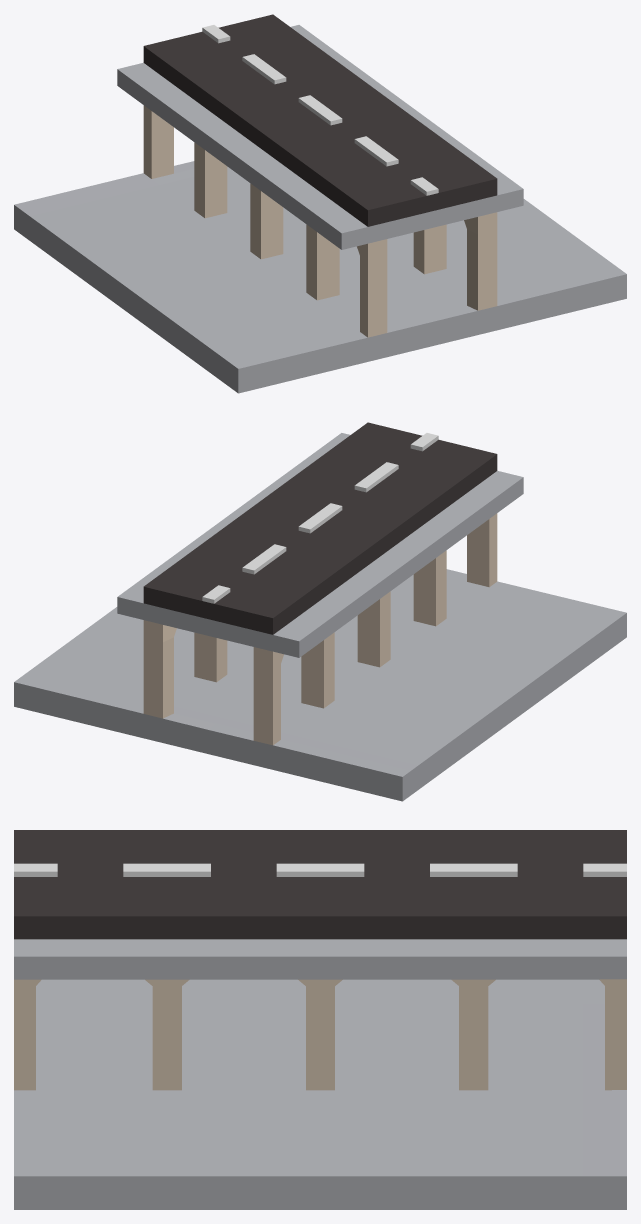
Rendered from Street_Bridge.glb.
3 renders of one model, top to bottom at view 1: azimuth 30°, elevation 25°; view 2: azimuth 150°, elevation 25°; view 3: azimuth 270°, elevation 25°, orthographic. The views are drawn at different scales.
Visible parts, largest first — view 1: Street_Bridge; view 2: Street_Bridge; view 3: Street_Bridge.
Boxes of the visible parts, x1=… form: Street_Bridge: x1=14, y1=14, x2=626, y2=393; Street_Bridge: x1=14, y1=422, x2=626, y2=801; Street_Bridge: x1=14, y1=830, x2=626, y2=1209.
Size of the model in its own units: 2 by 0.7659 by 2.
